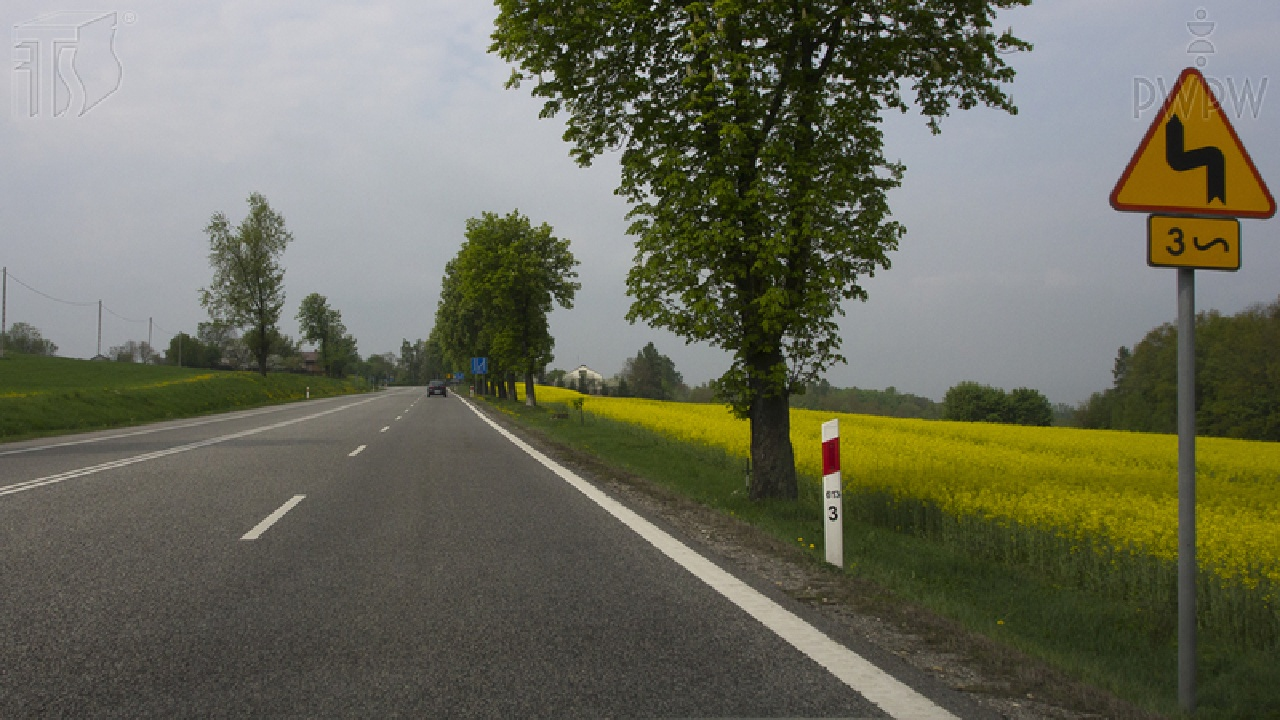A4: (1108, 67, 1277, 220)
